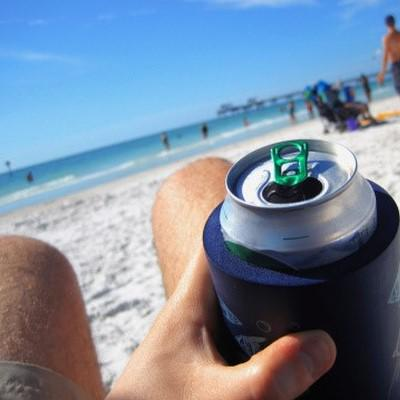beer: (204, 137, 400, 388)
